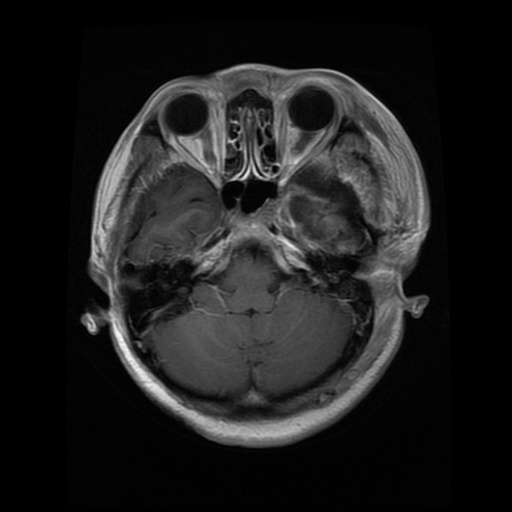glioma: (289, 169, 367, 249)
